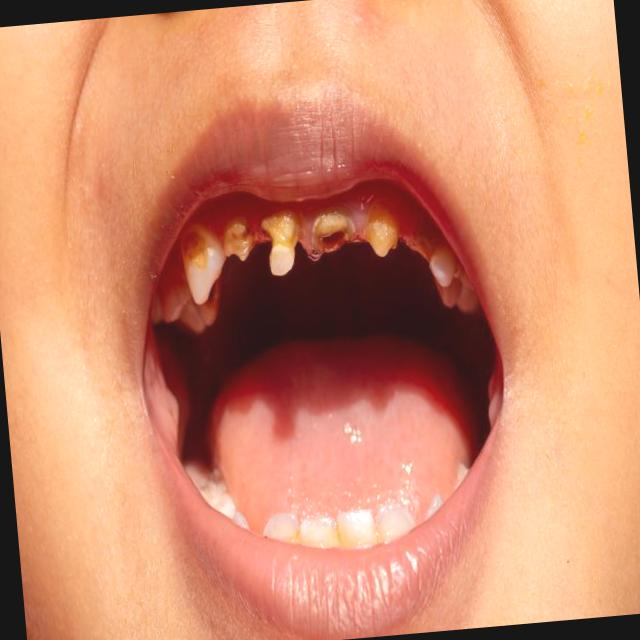caries: (177, 223, 226, 305), (260, 211, 302, 277), (306, 208, 356, 255), (362, 214, 401, 259), (222, 220, 252, 262)
